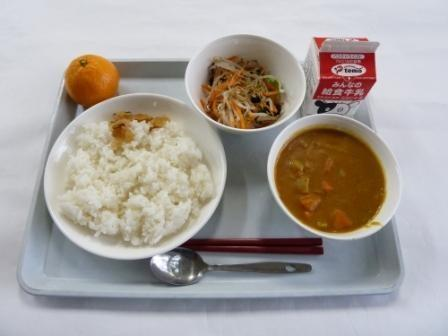Citrus: (55, 43, 127, 113)
Curry: (267, 120, 407, 238)
Milk: (302, 30, 384, 119)
Rice: (58, 114, 212, 244)
Salad: (187, 32, 299, 127)
